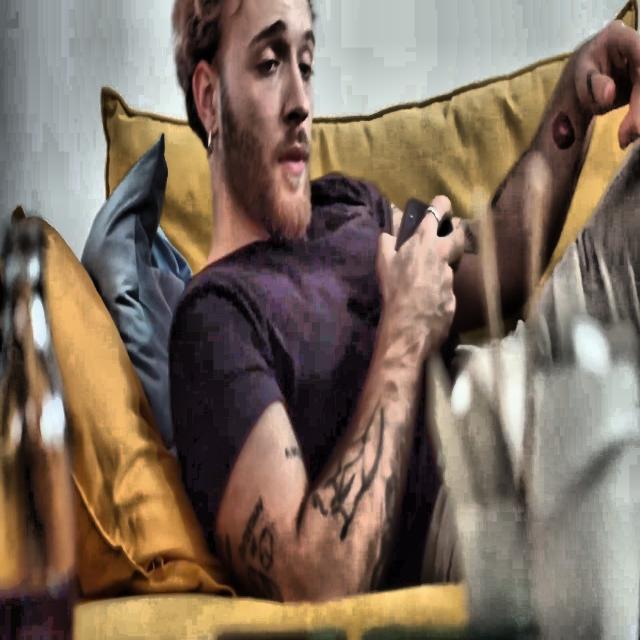Phone: (394, 196, 454, 258)
